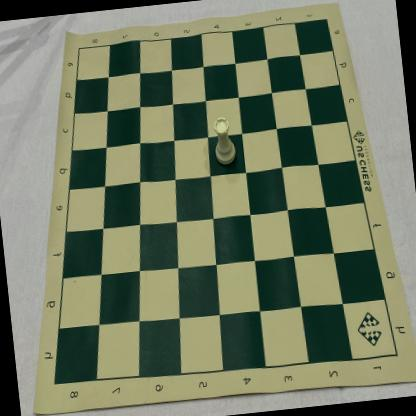white-rook: (211, 116, 237, 166)
